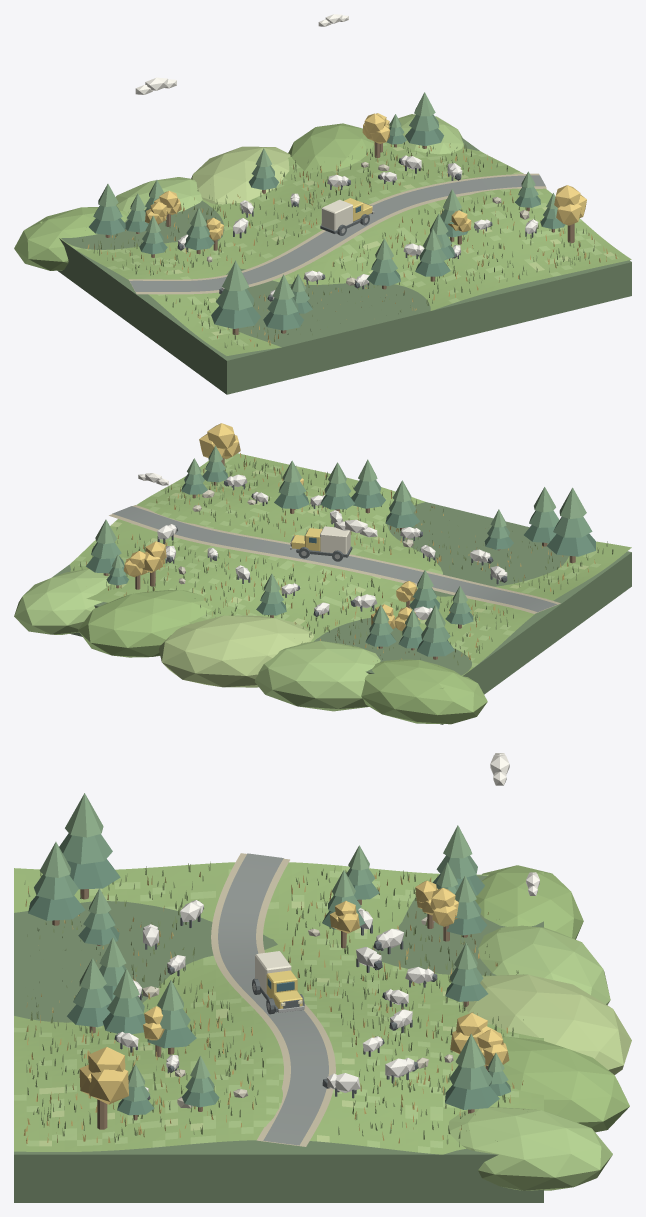
The model's file is echo_world_lowpoly_diorama.glb.
The picture shows the model from 3 angles, top to bottom: view 1: azimuth 30°, elevation 25°; view 2: azimuth 150°, elevation 25°; view 3: azimuth 270°, elevation 25°; orthographic projection. The views are drawn at different scales.
Visible parts, largest first — view 1: EW_Terrain, EW_DioramaBase, EW_GrassField, EW_RoadSurface, EW_BackgroundHill_02, EW_BackgroundHill_00, EW_BackgroundHill_03, EW_RoadShoulder, TreeHero_00, EW_BackgroundHill_01, TreeHero_01, TreeHero_03 (+13 smaller); view 2: EW_Terrain, EW_DioramaBase, EW_BackgroundHill_02, EW_BackgroundHill_01, EW_BackgroundHill_00, EW_BackgroundHill_03, EW_RoadSurface, EW_GrassField, EW_BackgroundHill_04, EW_RoadShoulder, TreeHero_00, TreeHero_01 (+19 smaller); view 3: EW_Terrain, EW_DioramaBase, EW_RoadSurface, EW_BackgroundHill_04, EW_GrassField, EW_BackgroundHill_02, EW_BackgroundHill_03, EW_BackgroundHill_01, EW_BackgroundHill_00, EW_RoadShoulder, TreeHero_00, TreeHero_01 (+19 smaller).
Part boxes in pixels (bbox=[...]): EW_Terrain: bbox=[40, 141, 631, 355]; EW_DioramaBase: bbox=[57, 137, 631, 394]; EW_GrassField: bbox=[82, 141, 617, 349]; EW_RoadSurface: bbox=[130, 175, 545, 291]; EW_BackgroundHill_02: bbox=[191, 146, 290, 204]; EW_BackgroundHill_00: bbox=[14, 207, 128, 270]; EW_BackgroundHill_03: bbox=[288, 123, 373, 172]; EW_RoadShoulder: bbox=[128, 173, 546, 294]; TreeHero_00: bbox=[211, 260, 260, 328]; EW_BackgroundHill_01: bbox=[116, 177, 202, 214]; TreeHero_01: bbox=[263, 274, 303, 330]; TreeHero_03: bbox=[405, 92, 443, 146]; EW_Terrain: bbox=[70, 453, 631, 688]; EW_DioramaBase: bbox=[51, 502, 631, 724]; EW_BackgroundHill_02: bbox=[159, 615, 313, 687]; EW_BackgroundHill_01: bbox=[254, 641, 380, 711]; EW_BackgroundHill_00: bbox=[361, 659, 487, 724]; EW_BackgroundHill_03: bbox=[78, 590, 211, 657]; EW_RoadSurface: bbox=[112, 506, 556, 612]; EW_GrassField: bbox=[73, 453, 613, 665]; EW_BackgroundHill_04: bbox=[14, 569, 110, 634]; EW_RoadShoulder: bbox=[109, 505, 560, 613]; TreeHero_00: bbox=[547, 487, 595, 556]; TreeHero_01: bbox=[524, 487, 559, 542]; EW_Terrain: bbox=[14, 862, 543, 1154]; EW_DioramaBase: bbox=[14, 875, 543, 1202]; EW_RoadSurface: bbox=[218, 853, 328, 1145]; EW_BackgroundHill_04: bbox=[447, 1107, 612, 1190]; EW_GrassField: bbox=[23, 861, 523, 1147]; EW_BackgroundHill_02: bbox=[462, 974, 631, 1074]; EW_BackgroundHill_03: bbox=[485, 1036, 629, 1132]; EW_BackgroundHill_01: bbox=[478, 925, 610, 1005]; EW_BackgroundHill_00: bbox=[475, 865, 583, 939]; EW_RoadShoulder: bbox=[211, 853, 335, 1146]; TreeHero_00: bbox=[59, 793, 120, 889]; TreeHero_01: bbox=[28, 842, 85, 920].
Size of the model in its own units: 32.86 by 13.17 by 27.98.
